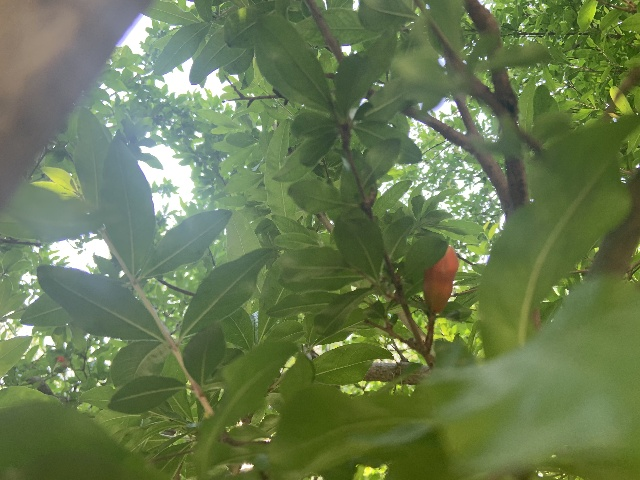bud: (423, 245, 459, 314)
